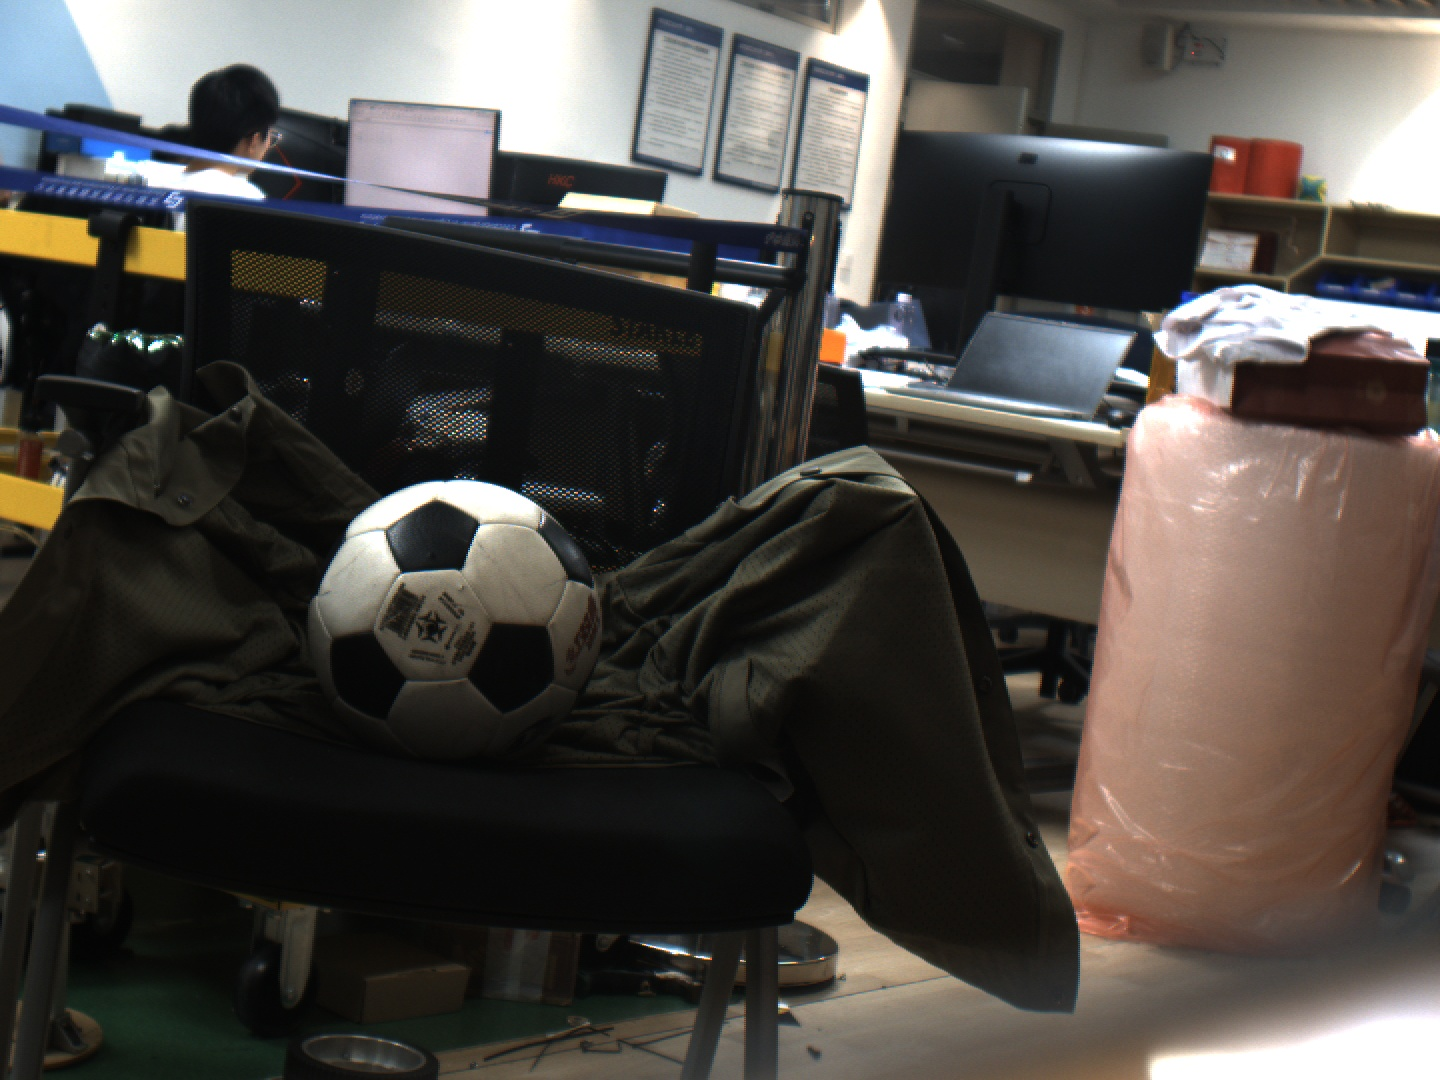ball: (266, 459, 617, 763)
